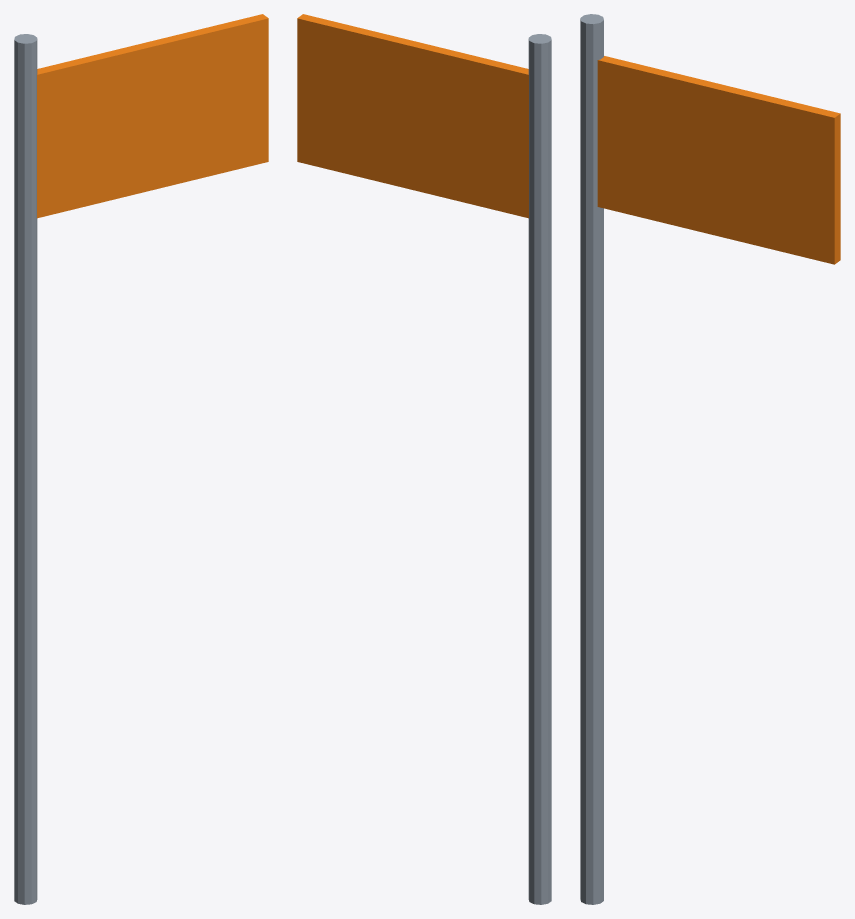
File: Ski_Flag.fbx
3 views of the same model, side by side, from view 1: azimuth 30°, elevation 25°; view 2: azimuth 150°, elevation 25°; view 3: azimuth 330°, elevation 25° (orthographic). The views are drawn at different scales.
Visible parts, largest first — view 1: Flag; view 2: Flag; view 3: Flag.
Part boxes in pixels (left/top/right/bottom): Flag: left=14, top=14, right=268, bottom=904; Flag: left=297, top=14, right=551, bottom=904; Flag: left=580, top=14, right=840, bottom=904.
Bounding box in the file's own units: 0.7285 × 2.4 × 0.06.
